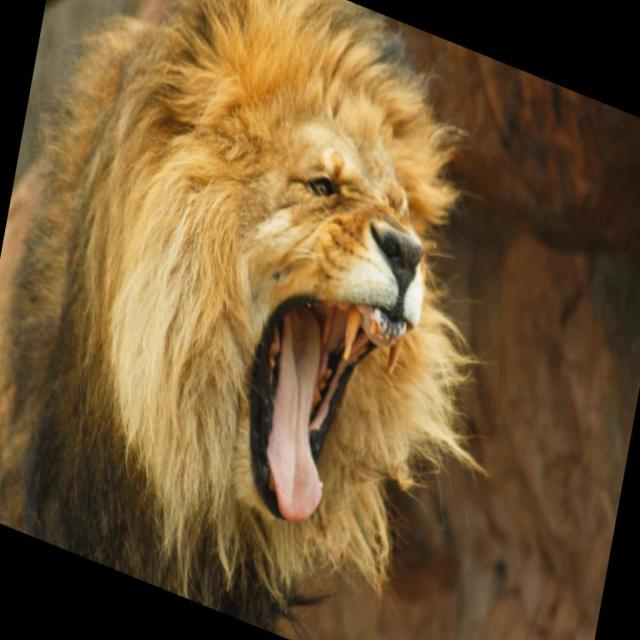Lion: (0, 0, 559, 639)
